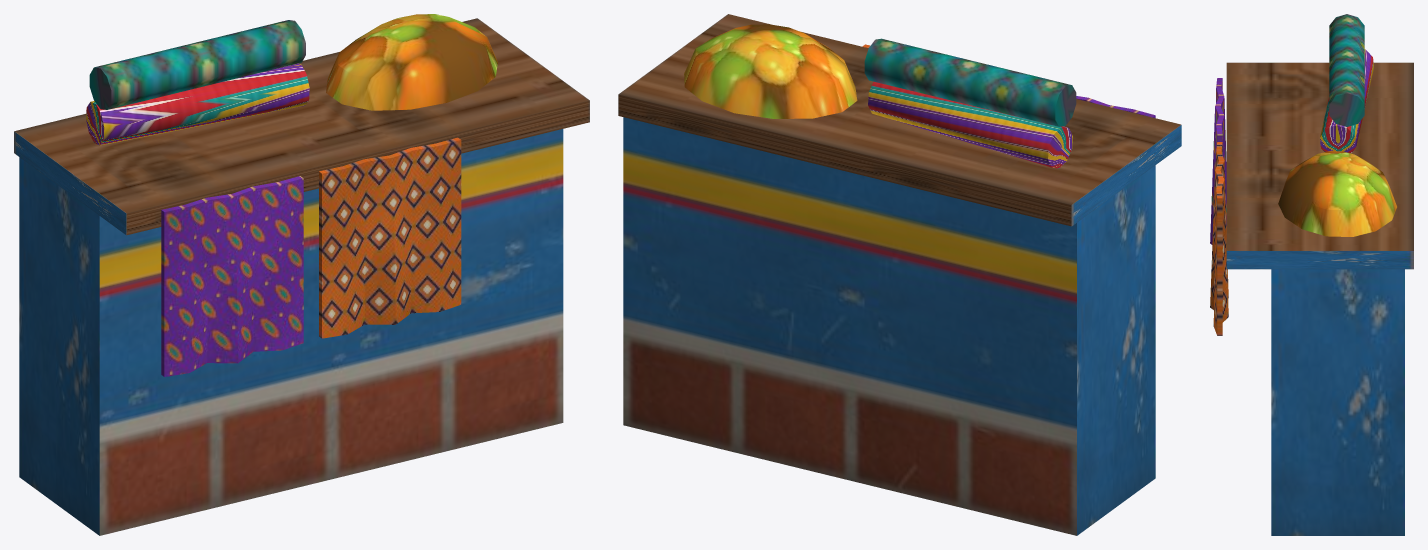
File: mkt_wall_b.glb
3 views of the same model, side by side, from view 1: azimuth 30°, elevation 25°; view 2: azimuth 150°, elevation 25°; view 3: azimuth 270°, elevation 25° (orthographic). The views are drawn at different scales.
Visible parts, largest first — view 1: mkt_wall_b_body; view 2: mkt_wall_b_body; view 3: mkt_wall_b_body.
Boxes of the visible parts, x1=… form: mkt_wall_b_body: x1=14, y1=14, x2=589, y2=535; mkt_wall_b_body: x1=618, y1=14, x2=1181, y2=535; mkt_wall_b_body: x1=1210, y1=14, x2=1413, y2=535.
Bounding box in the file's own units: 1 × 0.872 × 0.457.
1 material, 1 textured.
